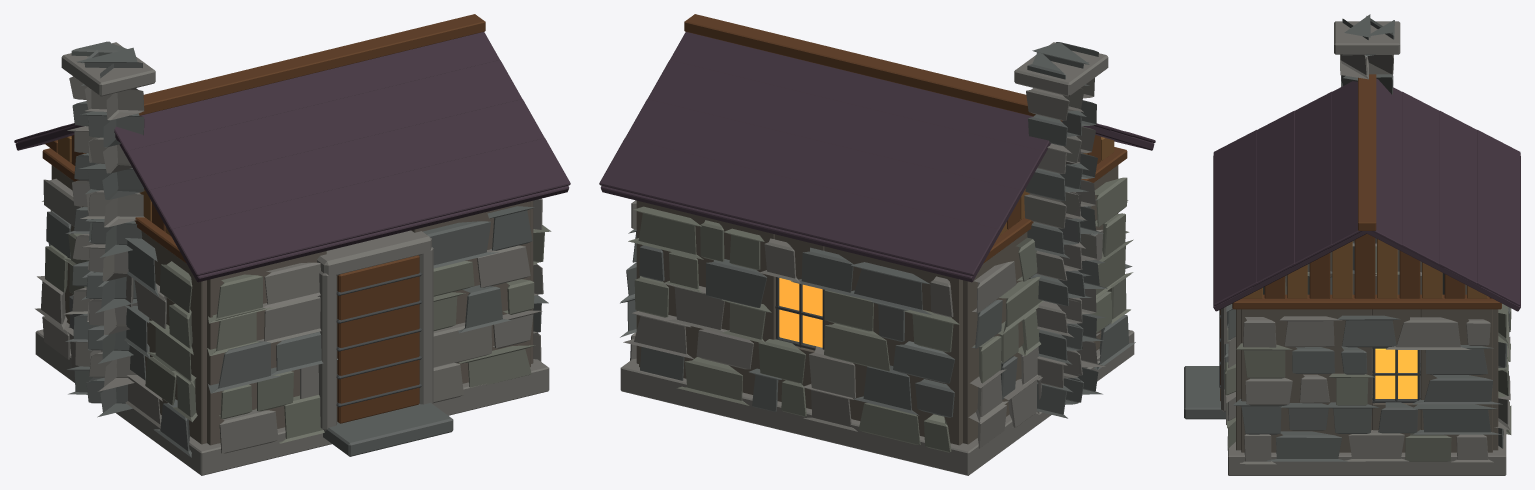
Rendered from villager_house.glb.
The picture shows the model from 3 angles, left to right: view 1: azimuth 30°, elevation 25°; view 2: azimuth 150°, elevation 25°; view 3: azimuth 270°, elevation 25°; orthographic projection. The views are drawn at different scales.
Parts seen in each view (by area): view 1: house_roof-col, house_masonry, house_chimney-col, house_entry_door, house_mortar_backing, stone_entry_frame-col, house_floor-col, house_doorstep-col, house_wall_plate, house_gable_planks; view 2: house_roof-col, house_masonry, house_chimney-col, house_mortar_backing, house_floor-col, house_window_glass-col, house_wall_plate, house_gable_planks; view 3: house_roof-col, house_masonry, house_mortar_backing, house_gable_planks, house_floor-col, house_chimney-col, house_wall_plate, house_window_glass-col, house_doorstep-col, stone_entry_frame-col.
Boxes of the visible parts, x1,y1,x2,y2 form: house_roof-col: (14, 14, 570, 282); house_masonry: (35, 178, 551, 457); house_chimney-col: (61, 41, 155, 417); house_entry_door: (336, 255, 422, 423); house_mortar_backing: (51, 165, 533, 445); stone_entry_frame-col: (317, 230, 433, 431); house_floor-col: (35, 329, 549, 475); house_doorstep-col: (323, 403, 453, 456); house_wall_plate: (42, 148, 186, 263); house_gable_planks: (45, 135, 170, 235); house_roof-col: (599, 14, 1155, 282); house_masonry: (620, 177, 1135, 452); house_chimney-col: (1014, 42, 1108, 418); house_mortar_backing: (636, 165, 1118, 445); house_floor-col: (620, 330, 1134, 475); house_window_glass-col: (775, 277, 824, 350); house_wall_plate: (983, 147, 1127, 263); house_gable_planks: (999, 135, 1114, 235); house_roof-col: (1213, 74, 1520, 311); house_masonry: (1223, 238, 1511, 464); house_mortar_backing: (1236, 239, 1498, 452); house_gable_planks: (1242, 234, 1491, 298); house_floor-col: (1228, 349, 1506, 475); house_chimney-col: (1334, 14, 1400, 94); house_wall_plate: (1232, 294, 1501, 309); house_window_glass-col: (1372, 347, 1420, 403); house_doorstep-col: (1184, 366, 1225, 419); stone_entry_frame-col: (1221, 306, 1228, 411).
Size of what is drawn, in the model's own units: 7.28 by 6.25 by 6.29.
